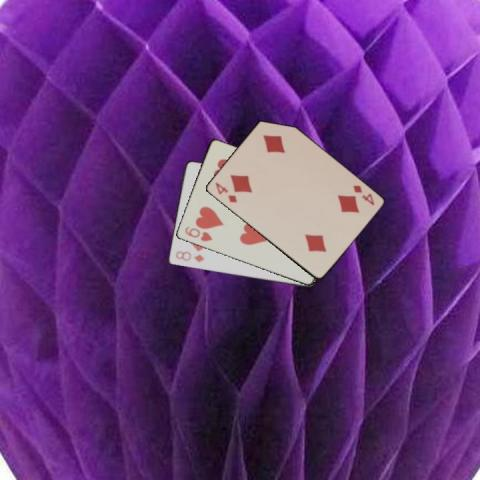4d: (212, 179, 238, 204), (350, 182, 375, 207)
6h: (182, 223, 213, 243)
8d: (173, 248, 205, 263)
